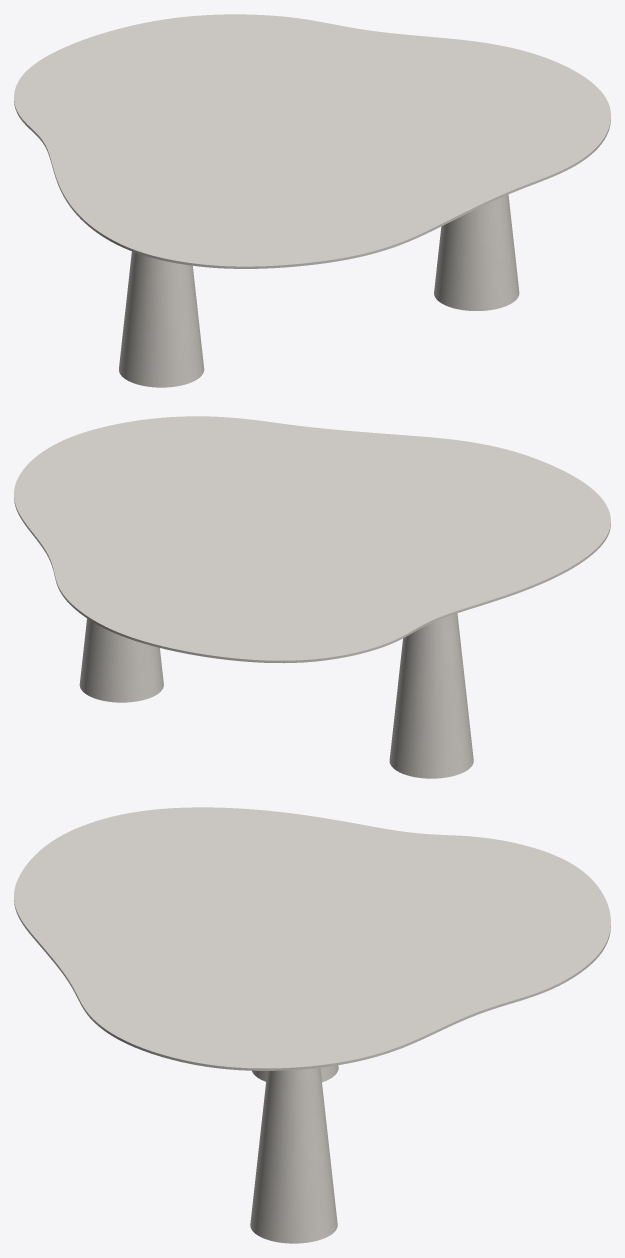
The model's file is pearlwhite_topone_facet_pebble.glb.
The picture shows the model from 3 angles, top to bottom: view 1: azimuth 30°, elevation 25°; view 2: azimuth 150°, elevation 25°; view 3: azimuth 270°, elevation 25°; orthographic projection. The views are drawn at different scales.
Parts seen in each view (by area): view 1: facet_topone, pebble; view 2: facet_topone, pebble; view 3: facet_topone, pebble.
Part boxes in pixels (x1,y1,x2,y2): facet_topone: (14,14,610,268); pebble: (119,194,519,387); facet_topone: (14,416,610,663); pebble: (79,613,473,778); facet_topone: (14,807,610,1070); pebble: (250,1065,338,1243).
Size of the model in its own units: 6.83 by 2.5 by 6.6.
Materials: 1 (1 with a texture image).
